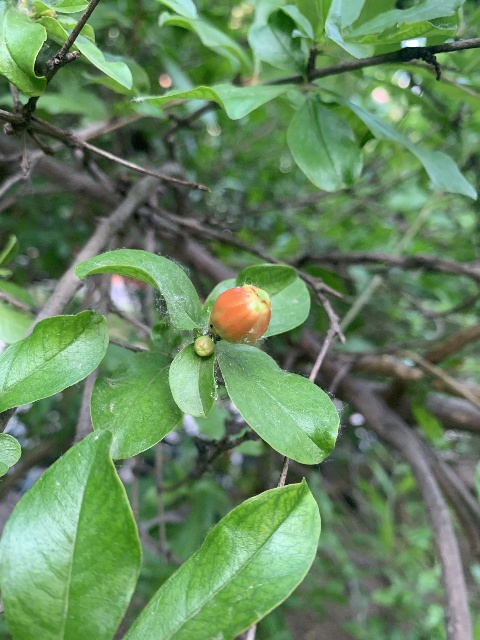bud: (210, 285, 271, 344)
